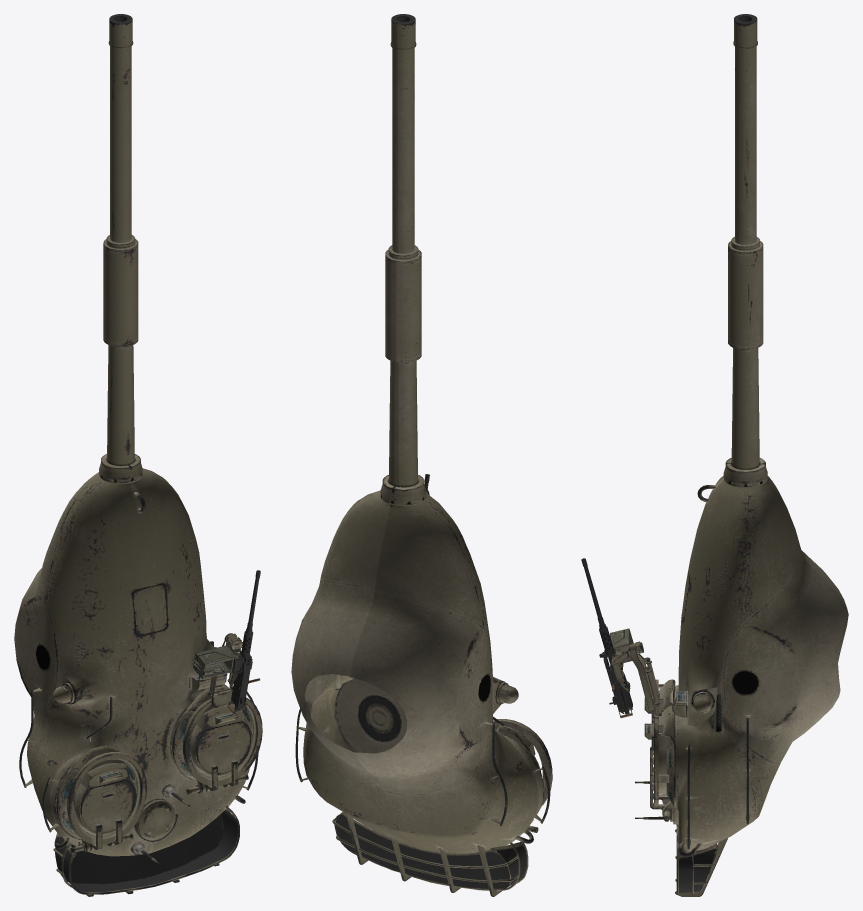
The model's file is Gun_08.glb.
3 renders of one model, left to right at view 1: azimuth 30°, elevation 25°; view 2: azimuth 150°, elevation 25°; view 3: azimuth 270°, elevation 25°, orthographic. The views are drawn at different scales.
Visible parts, largest first — view 1: set_0_group_0; view 2: set_0_group_0; view 3: set_0_group_0.
Boxes of the visible parts, x1,y1,x2,y2 form: set_0_group_0: (14,14,262,896); set_0_group_0: (291,14,552,896); set_0_group_0: (581,14,848,896).
Bounding box in the file's own units: 2.36 × 8.75 × 2.48.
1 material, 1 textured.
